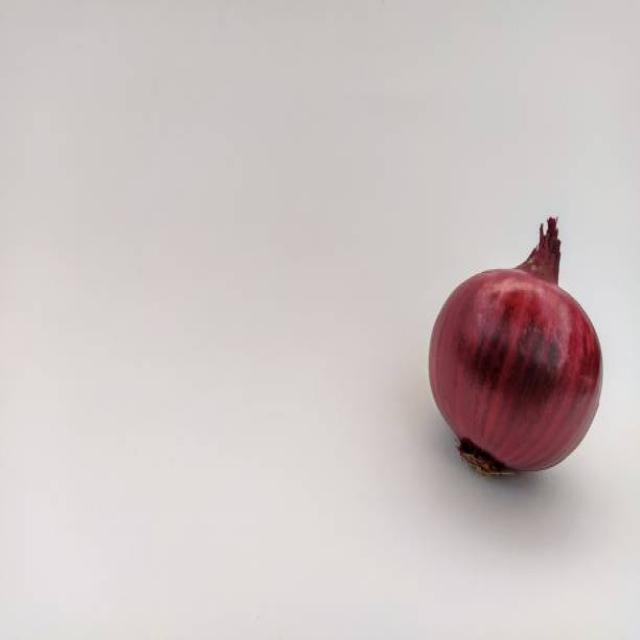onion: (426, 241, 605, 495)
